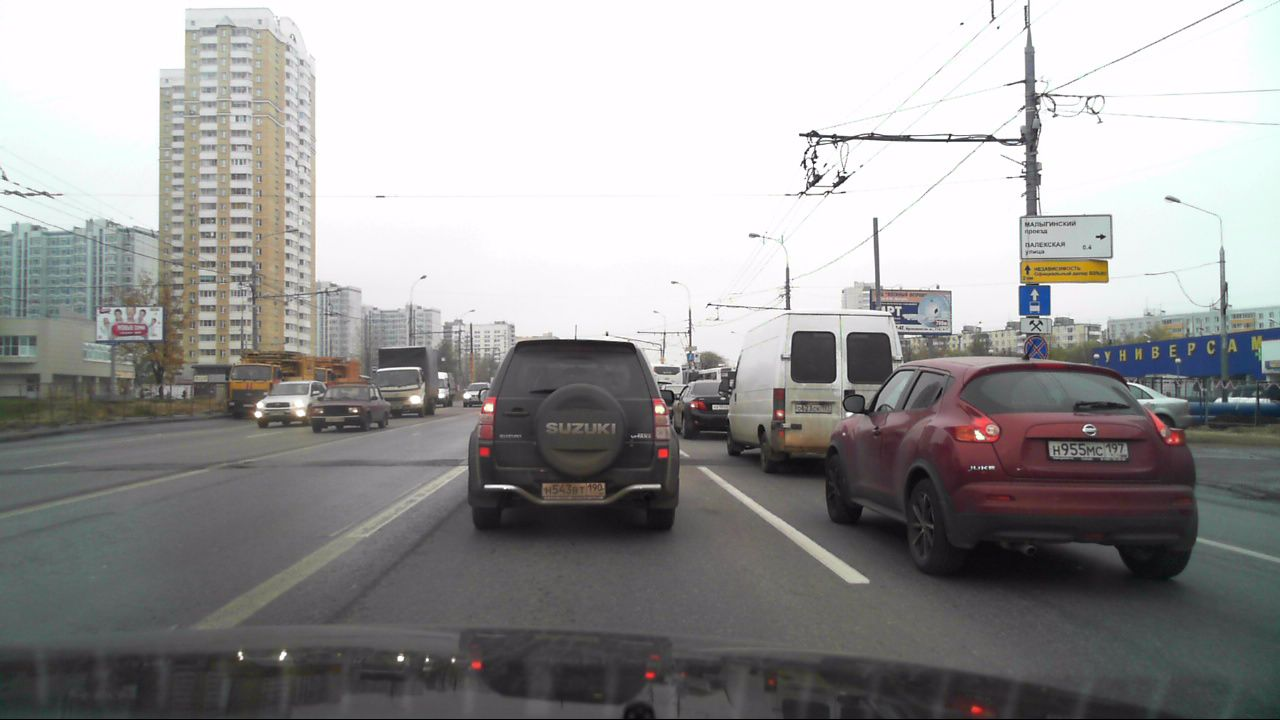No Parking: (1022, 336, 1048, 362)
